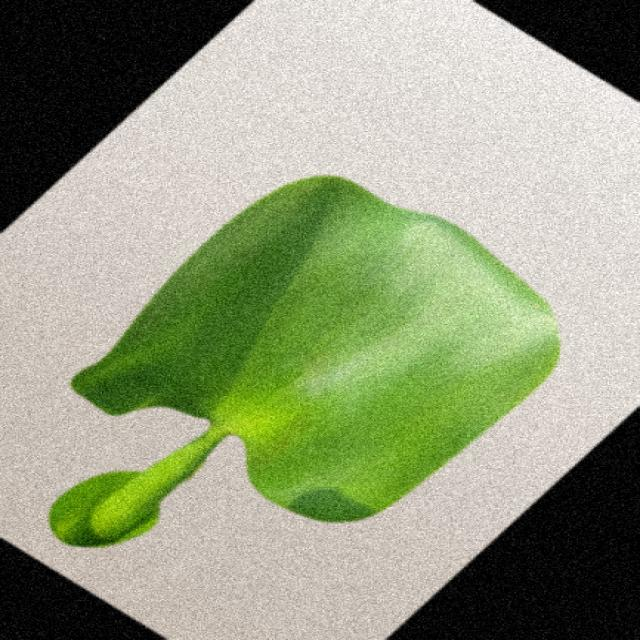daun sehat: (48, 176, 560, 547)
